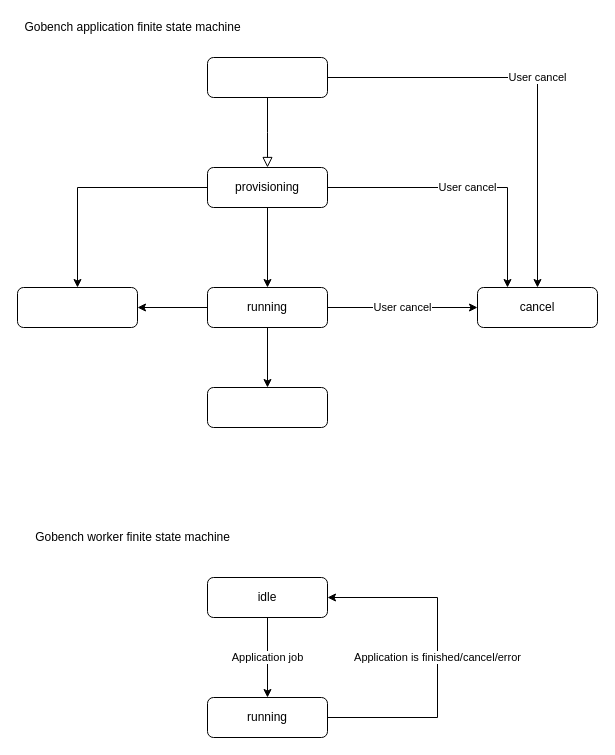
Some shapes in this 615 by 755 pixel diagram are drawn without their labels. Each missing label, with the centre of its shape:
"error" goes at pixel 77 307.
"finished" goes at pixel 267 407.
"pending" goes at pixel 267 77.
